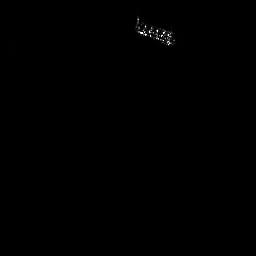ship: (132, 13, 178, 50)
